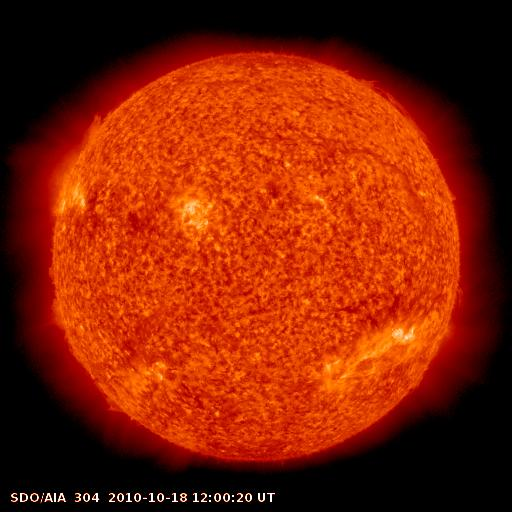prominence: (360, 71, 435, 146), (70, 96, 128, 154), (41, 287, 84, 361), (88, 379, 140, 427)
